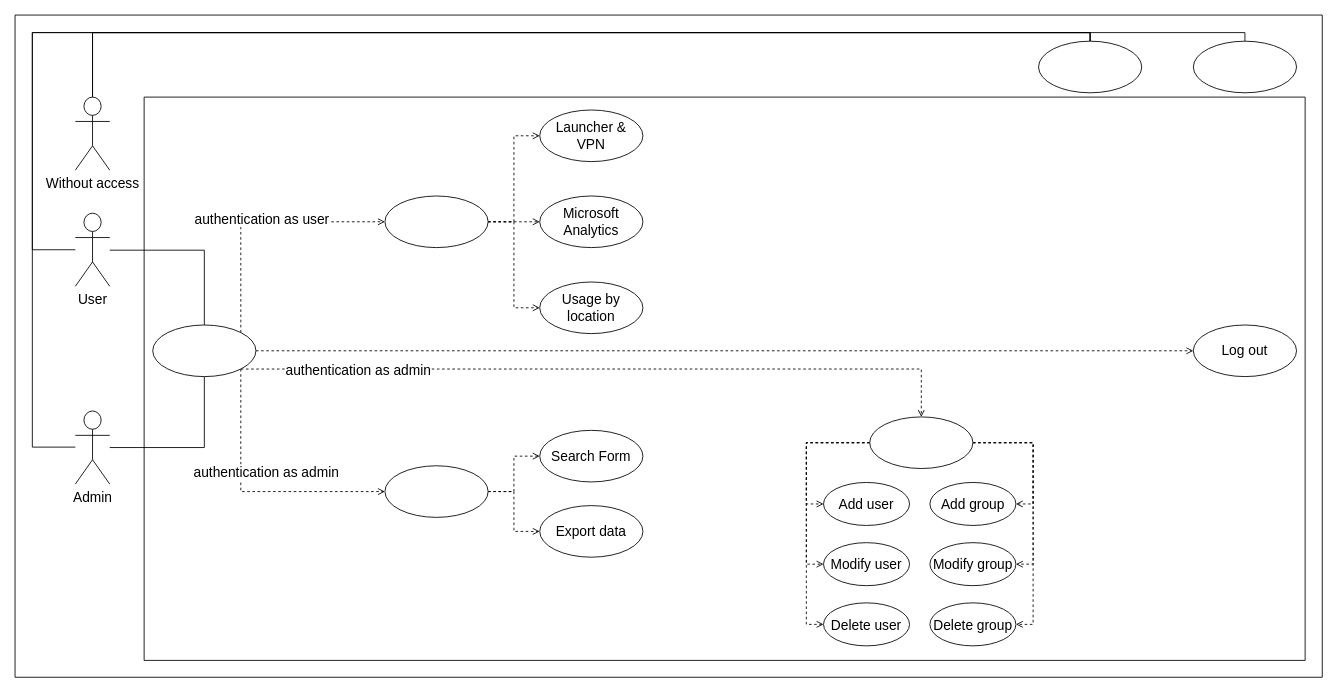
This 1337x692 diagram has some shape labels left out. Here are the shapes that lost their labels. From the top down, the box of each, then its label:
(1038, 40, 1142, 93): Wiki
(1192, 40, 1297, 93): Change language
(384, 195, 488, 248): Analytics
(152, 324, 256, 377): Log in
(869, 416, 973, 469): Administration
(384, 465, 488, 517): Passages
